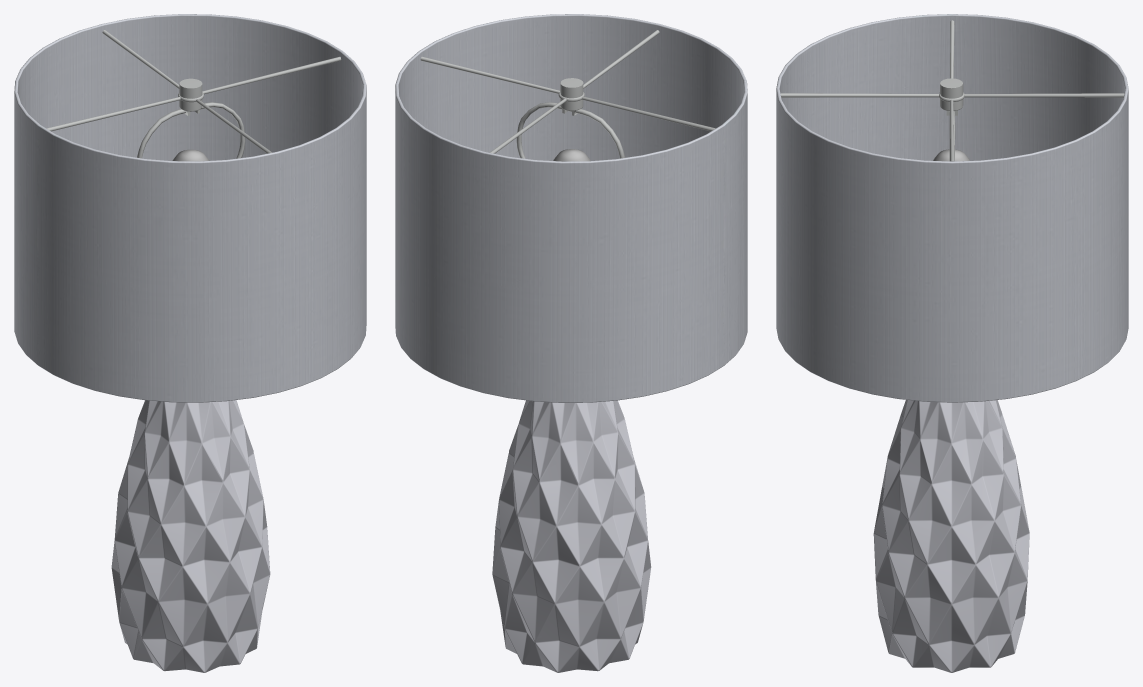
File: B07HKFXCNC.glb
The picture shows the model from 3 angles, left to right: view 1: azimuth 30°, elevation 25°; view 2: azimuth 150°, elevation 25°; view 3: azimuth 270°, elevation 25°; orthographic projection.
Visible parts, largest first — view 1: RootNode; view 2: RootNode; view 3: RootNode.
Boxes of the visible parts, x1=… form: RootNode: x1=14, y1=14, x2=366, y2=672; RootNode: x1=395, y1=14, x2=747, y2=672; RootNode: x1=776, y1=14, x2=1128, y2=672.
Bounding box in the file's own units: 0.297 × 0.5223 × 0.297.
1 material, 1 textured.
